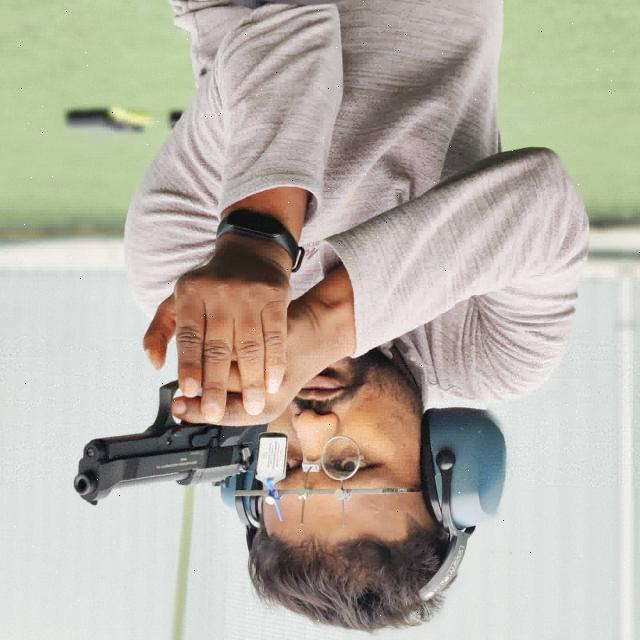gun: (67, 367, 275, 507)
